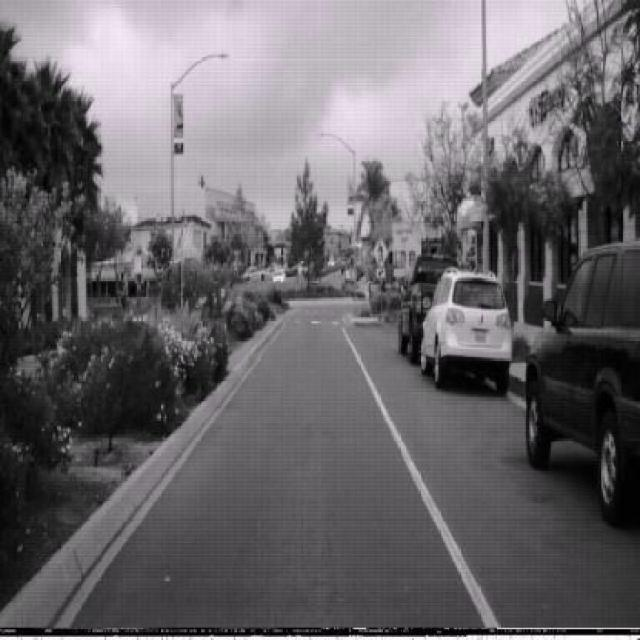pedestrianCrossing: (371, 234, 389, 269)
